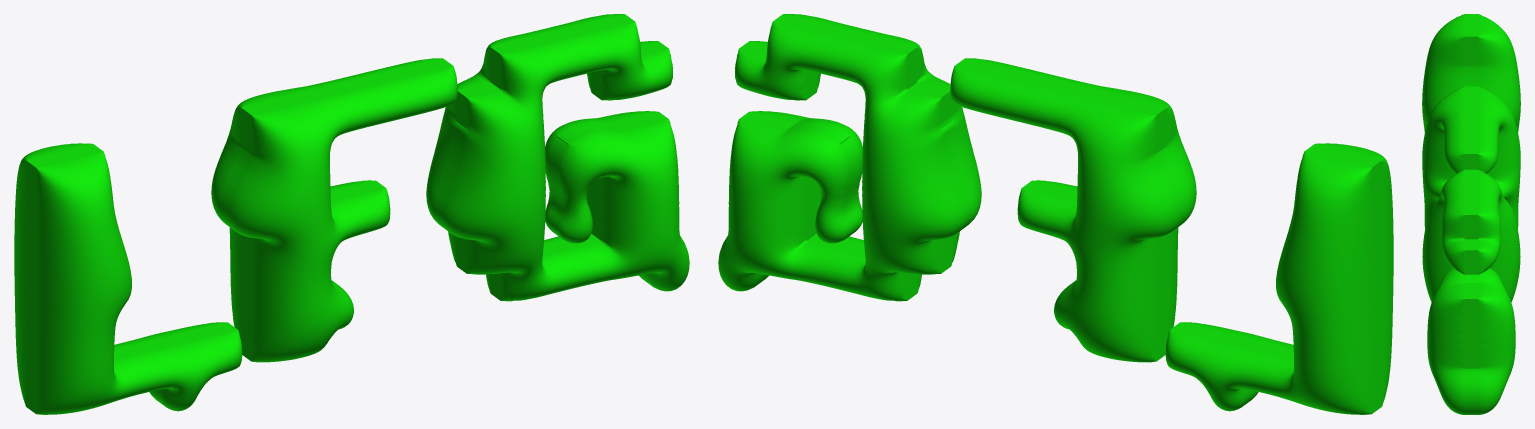
The model's file is LFG-SNOT.glb.
The picture shows the model from 3 angles, left to right: view 1: azimuth 30°, elevation 25°; view 2: azimuth 150°, elevation 25°; view 3: azimuth 270°, elevation 25°; orthographic projection. The views are drawn at different scales.
Parts seen in each view (by area): view 1: Mesh_2.002, Mesh_0.006, Mesh_1.005; view 2: Mesh_2.002, Mesh_0.006, Mesh_1.005; view 3: Mesh_2.002, Mesh_0.006, Mesh_1.005.
Part boxes in pixels (x1,y1,x2,y2): Mesh_2.002: [426, 14, 689, 301]; Mesh_0.006: [211, 58, 457, 362]; Mesh_1.005: [14, 143, 242, 414]; Mesh_2.002: [718, 14, 981, 301]; Mesh_0.006: [950, 58, 1196, 362]; Mesh_1.005: [1165, 143, 1393, 414]; Mesh_2.002: [1422, 169, 1520, 414]; Mesh_0.006: [1422, 86, 1520, 228]; Mesh_1.005: [1422, 14, 1520, 132].
Size of the model in its own units: 0.0577 by 0.0235 by 0.0111.
